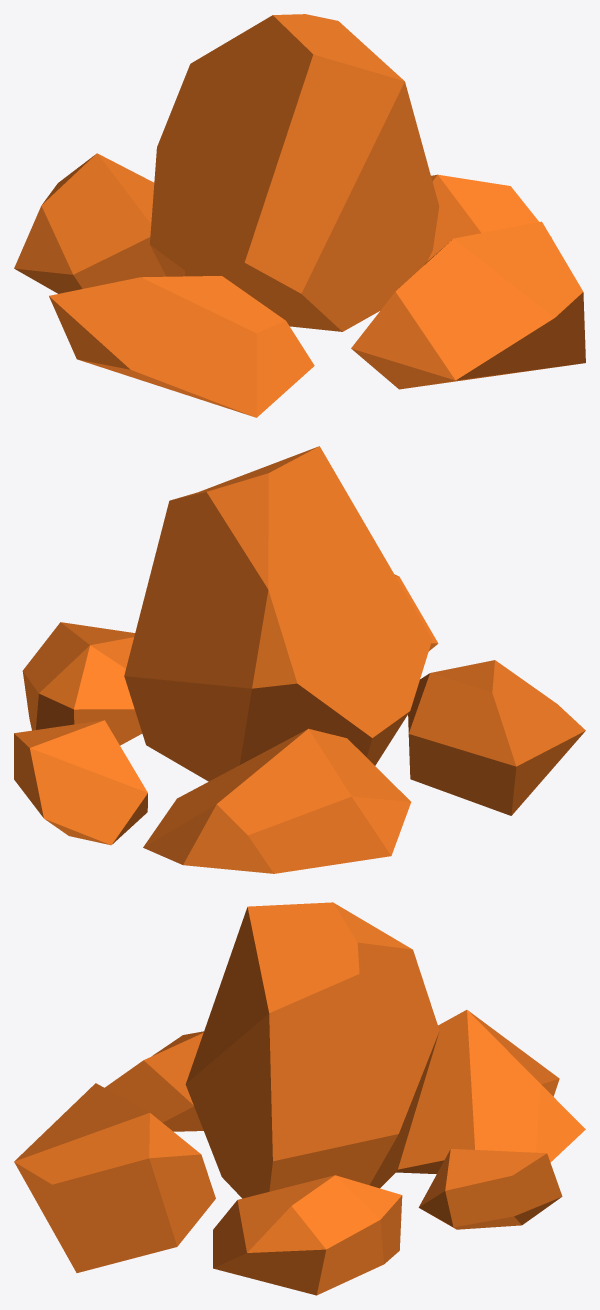
File: iron-ore.glb
The picture shows the model from 3 angles, top to bottom: view 1: azimuth 30°, elevation 25°; view 2: azimuth 150°, elevation 25°; view 3: azimuth 270°, elevation 25°; orthographic projection. The views are drawn at different scales.
Parts seen in each view (by area): view 1: iron-ore; view 2: iron-ore; view 3: iron-ore.
Boxes of the visible parts, left/top/right/bottom form: iron-ore: left=14, top=14, right=585, bottom=417; iron-ore: left=14, top=446, right=585, bottom=873; iron-ore: left=14, top=902, right=585, bottom=1295.
Size of the model in its own units: 0.9648 by 0.5988 by 1.07.
1 material, 1 textured.
